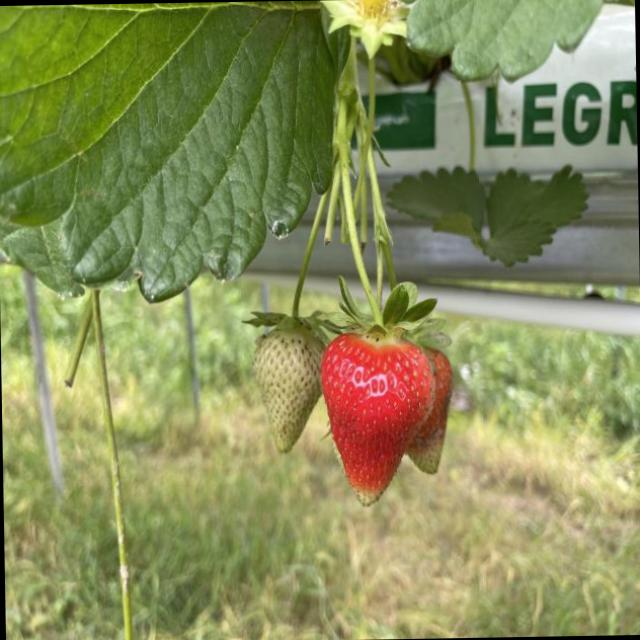stem: (336, 136, 414, 340), (242, 193, 327, 343), (374, 36, 449, 90)
strawberryNR: (253, 326, 322, 452), (407, 348, 452, 473)
strawberryR: (321, 333, 433, 504)
